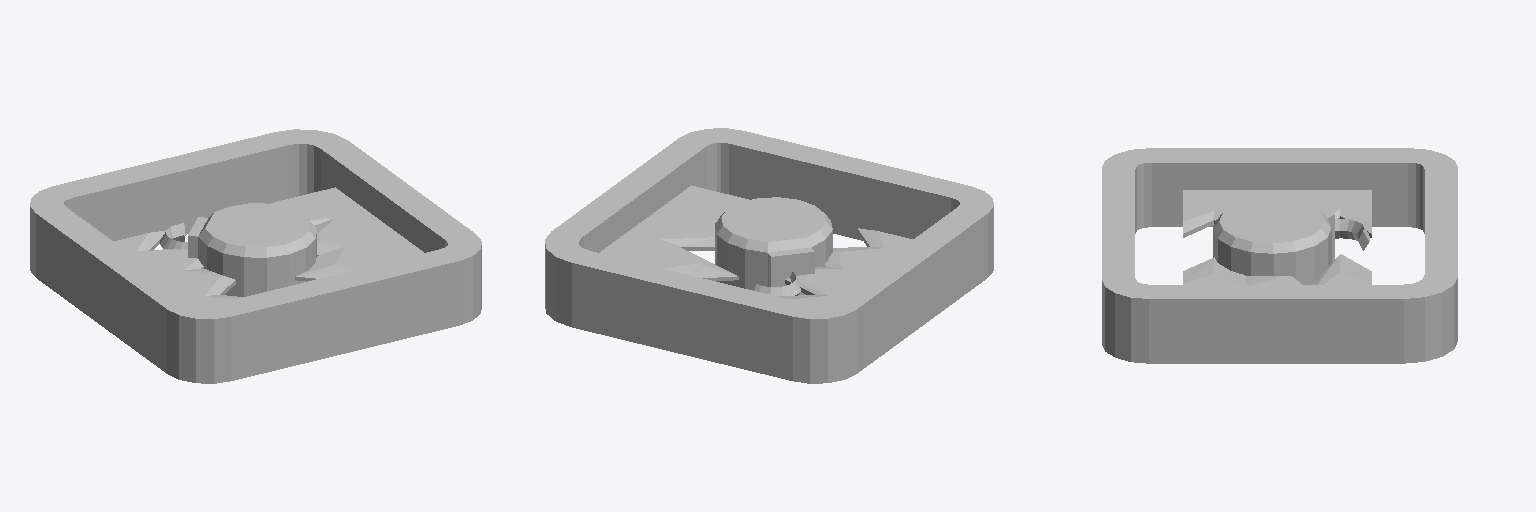
Rendered from BombCanBypassWalls.obj.
3 views of the same model, side by side, from view 1: azimuth 30°, elevation 25°; view 2: azimuth 150°, elevation 25°; view 3: azimuth 270°, elevation 25° (orthographic).
Visible parts, largest first — view 1: BombCanBypassWalls; view 2: BombCanBypassWalls; view 3: BombCanBypassWalls.
Part boxes in pixels (bbox=[...]): BombCanBypassWalls: bbox=[30, 129, 481, 383]; BombCanBypassWalls: bbox=[545, 128, 993, 383]; BombCanBypassWalls: bbox=[1102, 148, 1457, 363].
Size of the model in its own units: 0.7 by 0.1476 by 0.7.